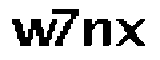7: (51, 6, 80, 50)
n: (81, 17, 113, 49)
w: (9, 16, 56, 48)
x: (115, 17, 149, 50)
